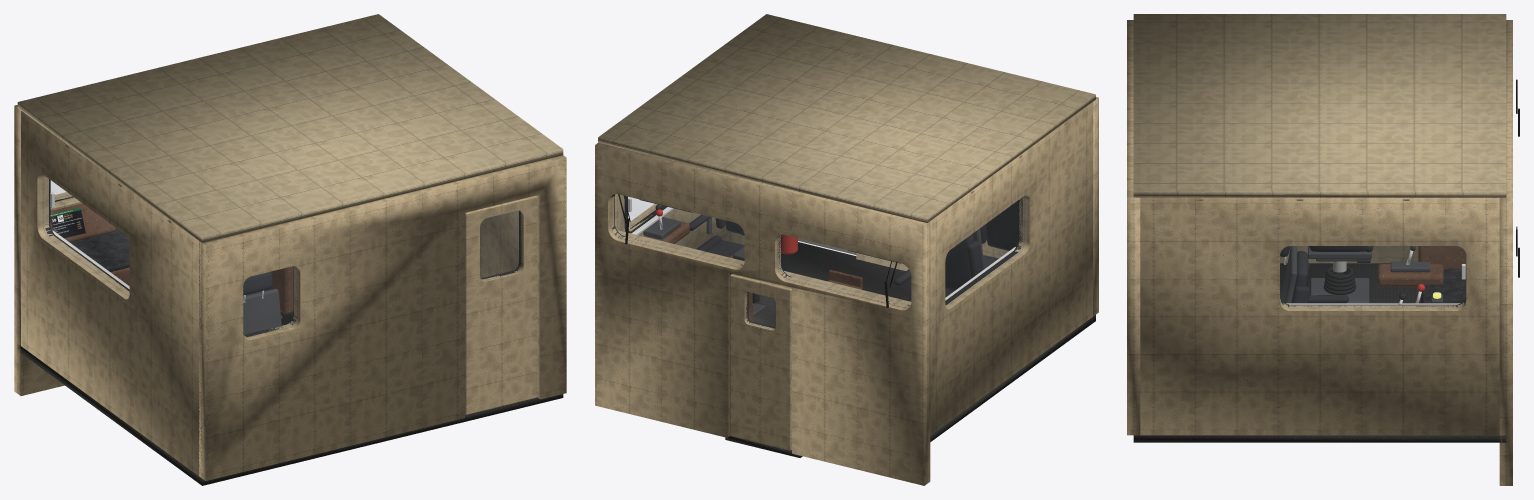
Rendered from sd70ace_desktop.glb.
3 renders of one model, left to right at view 1: azimuth 30°, elevation 25°; view 2: azimuth 150°, elevation 25°; view 3: azimuth 270°, elevation 25°, orthographic. The views are drawn at different scales.
Parts seen in each view (by area): view 1: back_wall, ceiling, side_wall-1, rdoor, sideglass-1, floor, rwin_glass, front_wall, rdoor_glass, side_wall1, cdesk_top, cseat2_backshell (+3 smaller); view 2: front_wall, ceiling, side_wall-1, door_leaf, windshield0, windshield1, floor, sideglass-1, back_wall, side_wall1, sill_shelf, cseat2_back (+3 smaller); view 3: side_wall1, ceiling, sideglass1, front_wall, floor, back_wall, dt_wing_l, dt_top, side_wall-1, cdesk_body, cseat_plate, eseat_backshell (+3 smaller).
Boxes of the visible parts, x1,y1,x2,y2 form: back_wall: [199, 155, 566, 480]; ceiling: [17, 14, 563, 242]; side_wall-1: [21, 111, 202, 476]; rdoor: [465, 195, 537, 414]; sideglass-1: [41, 175, 128, 296]; floor: [17, 311, 563, 485]; rwin_glass: [244, 266, 296, 336]; front_wall: [14, 105, 70, 395]; rdoor_glass: [480, 211, 521, 279]; side_wall1: [480, 210, 518, 278]; cdesk_top: [70, 228, 129, 271]; cseat2_backshell: [243, 288, 281, 334]; front_wall: [595, 143, 930, 485]; ceiling: [598, 14, 1095, 222]; side_wall-1: [930, 102, 1092, 435]; door_leaf: [730, 274, 791, 450]; windshield0: [778, 235, 910, 307]; windshield1: [611, 194, 743, 266]; floor: [753, 242, 1095, 441]; sideglass-1: [946, 196, 1026, 307]; back_wall: [856, 97, 1098, 316]; side_wall1: [614, 194, 744, 249]; sill_shelf: [617, 230, 911, 306]; cseat2_back: [985, 201, 1017, 250]; side_wall1: [1140, 197, 1504, 435]; ceiling: [1133, 14, 1506, 197]; sideglass1: [1280, 246, 1465, 308]; front_wall: [1499, 20, 1512, 485]; floor: [1133, 263, 1506, 442]; back_wall: [1127, 20, 1140, 435]; dt_wing_l: [1377, 264, 1443, 286]; dt_top: [1422, 269, 1466, 303]; side_wall-1: [1280, 246, 1418, 263]; cdesk_body: [1418, 246, 1466, 303]; cseat_plate: [1310, 278, 1369, 303]; eseat_backshell: [1281, 246, 1297, 303].
Bounding box in the file's own units: 3.16 × 2.49 × 2.95.
22 materials, 10 textured.
